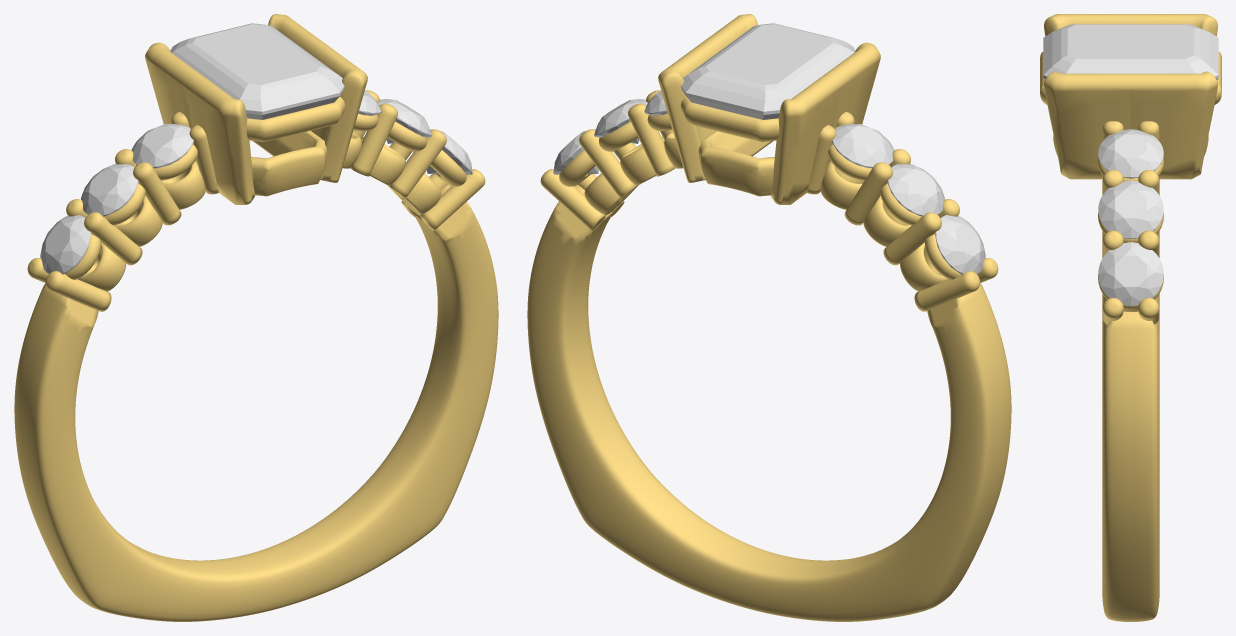
File: diamond-emerald-yellowgold-halfmoonbezel-europeanshank-7stone.glb
3 views of the same model, side by side, from view 1: azimuth 30°, elevation 25°; view 2: azimuth 150°, elevation 25°; view 3: azimuth 270°, elevation 25° (orthographic).
Visible parts, largest first — view 1: metal.003, stone.002, side.012, side.013, side.014, side.016; view 2: metal.003, stone.002, side.012, side.013, side.014, side.016; view 3: metal.003, stone.002, side.017, side.016, side.015.
Part boxes in pixels (<box>): metal.003: <box>14,14,498,621</box>; stone.002: <box>170,23,344,119</box>; side.012: <box>40,215,90,274</box>; side.013: <box>81,164,138,216</box>; side.014: <box>131,124,193,168</box>; side.016: <box>378,98,431,143</box>; metal.003: <box>527,14,1011,621</box>; stone.002: <box>681,23,855,119</box>; side.012: <box>935,215,985,274</box>; side.013: <box>887,164,944,216</box>; side.014: <box>832,124,894,168</box>; side.016: <box>594,98,647,143</box>; metal.003: <box>1040,14,1221,621</box>; stone.002: <box>1043,24,1218,79</box>; side.017: <box>1098,242,1163,305</box>; side.016: <box>1098,180,1163,238</box>; side.015: <box>1098,129,1163,178</box>.
Size of the model in its own units: 20.11 by 22.74 by 6.94.
